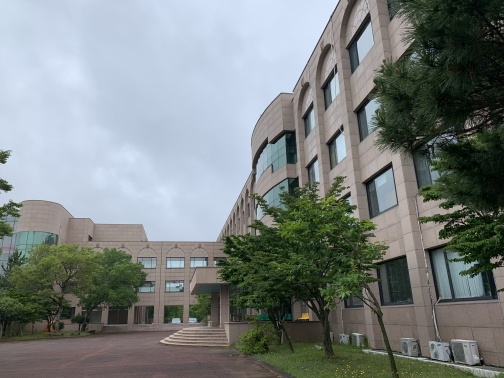Joint Experimental Labs: (2, 198, 74, 266)
Natural Science2: (202, 17, 456, 259), (168, 34, 323, 365)
